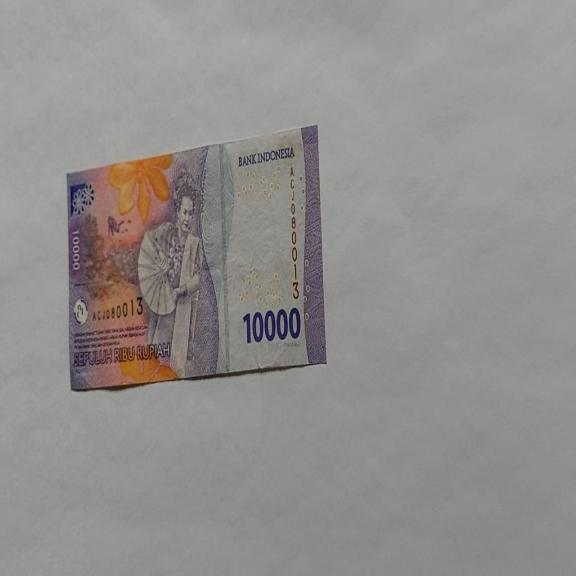Kertas: (66, 123, 327, 392), (242, 306, 302, 344)
